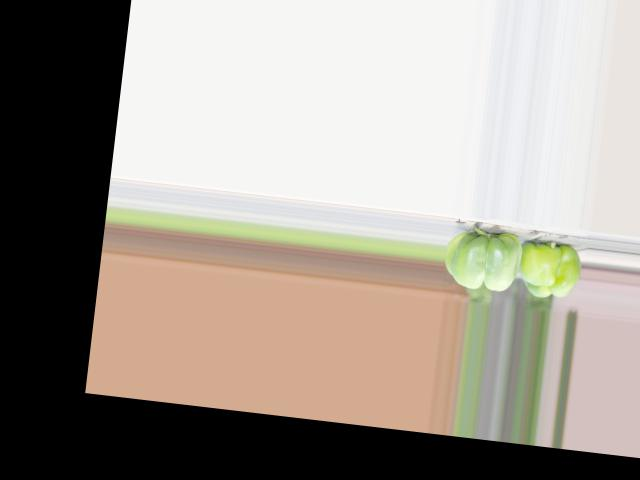bell_pepper: (514, 234, 586, 304)
